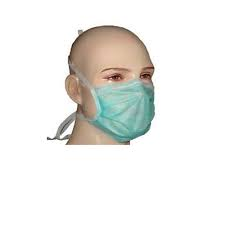flumask: (89, 78, 158, 141)
